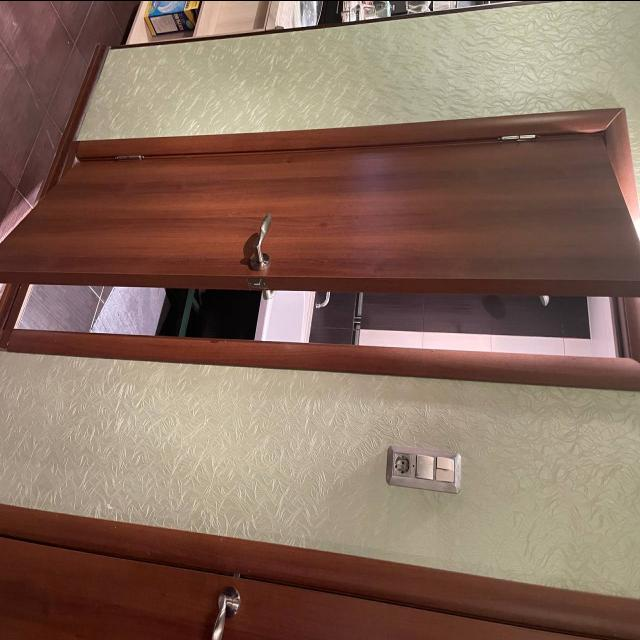open: (0, 105, 621, 371)
